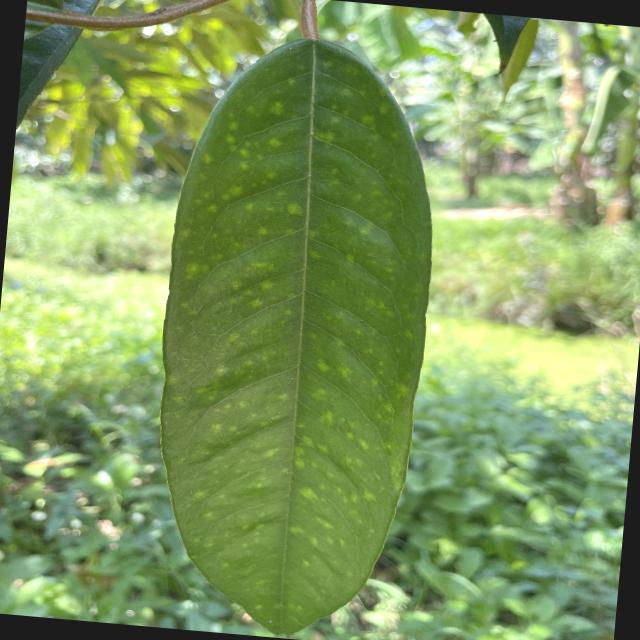Leaf Spot: (128, 13, 468, 639)
